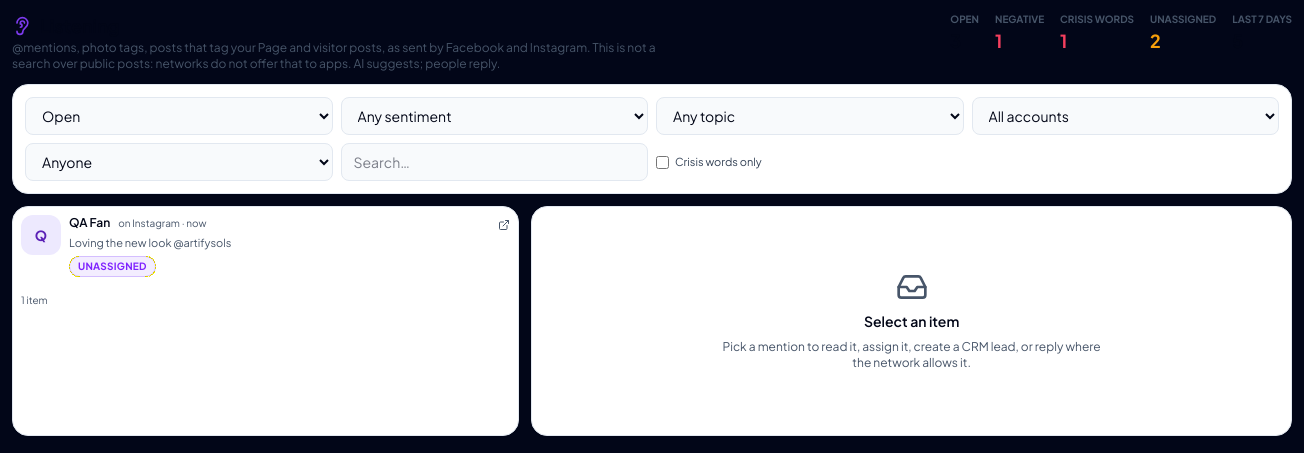
Test: SocialListeningPage › is read-only without social.reply: no assign, status, lead or reply controls
Step 1. Click the button "QA Fan" → (41, 235), box [13,207,518,284]
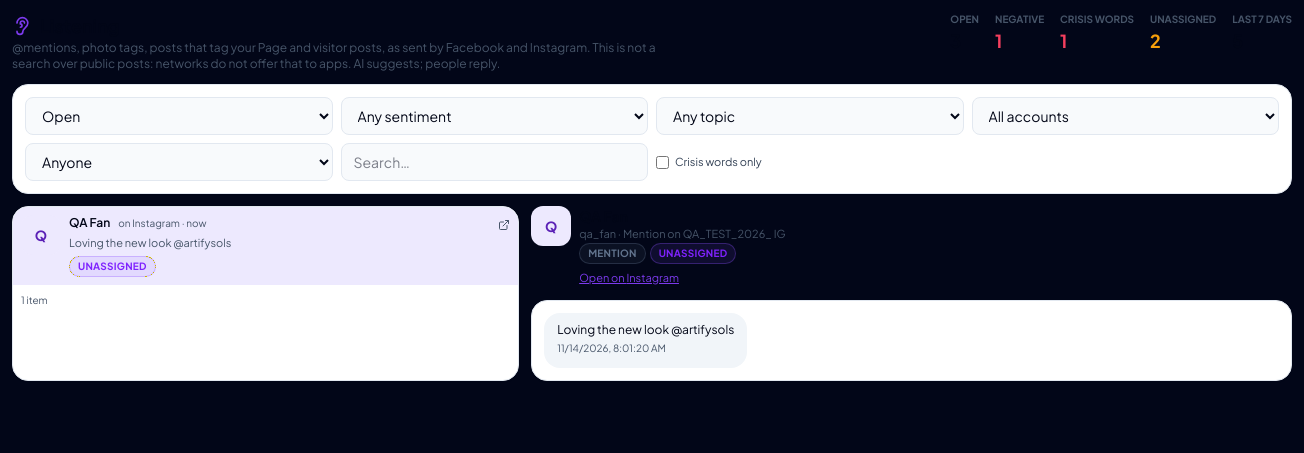
Check: the field labelled "Reply" is not shown
Check: the list named "Conversation thread" is shown, box [544,312,747,368]
